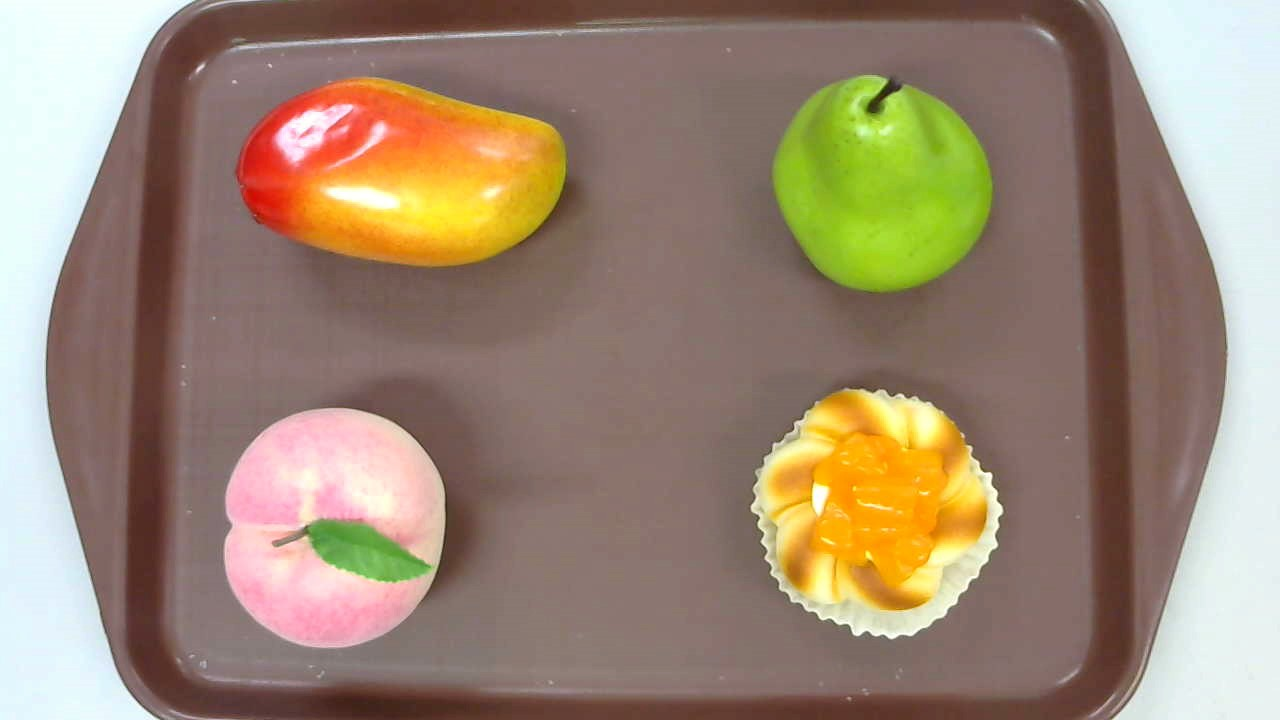green pear: (771, 73, 994, 294)
mango tart: (751, 386, 1005, 640)
peach: (222, 408, 446, 647)
red mango: (234, 76, 568, 268)
